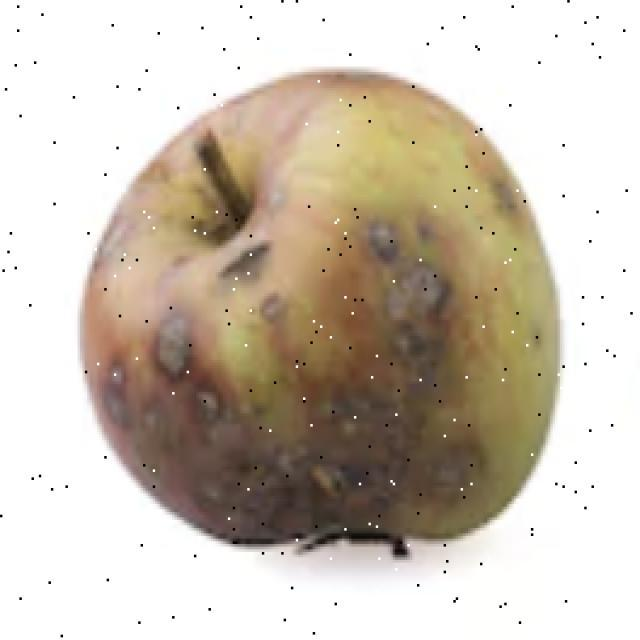Rotten: (95, 78, 555, 552)
